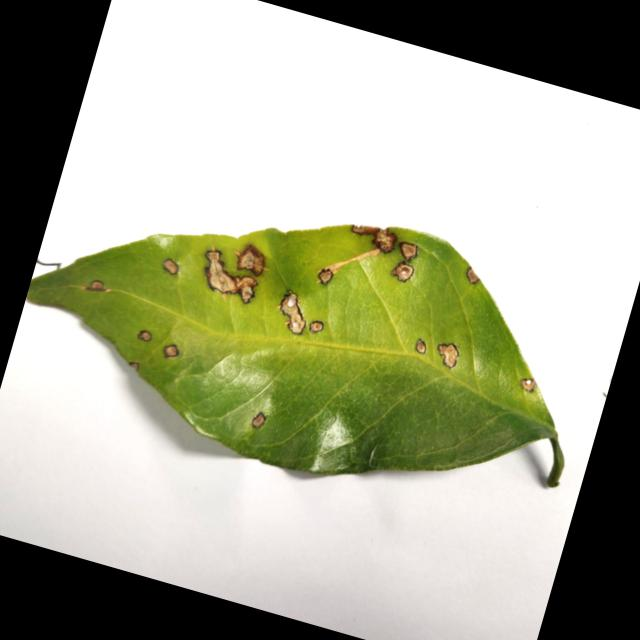antracnose: (28, 224, 563, 486), (205, 250, 239, 293), (278, 291, 306, 334), (237, 245, 264, 276), (374, 228, 397, 253), (236, 277, 257, 303), (438, 343, 459, 368), (392, 261, 414, 282), (399, 242, 418, 261), (352, 225, 379, 235), (84, 280, 107, 291), (163, 259, 179, 274), (319, 268, 334, 284), (252, 412, 266, 428), (521, 378, 536, 392), (467, 267, 479, 284), (164, 345, 179, 357), (416, 338, 426, 354), (310, 321, 323, 333), (138, 330, 151, 341), (129, 361, 139, 371)
